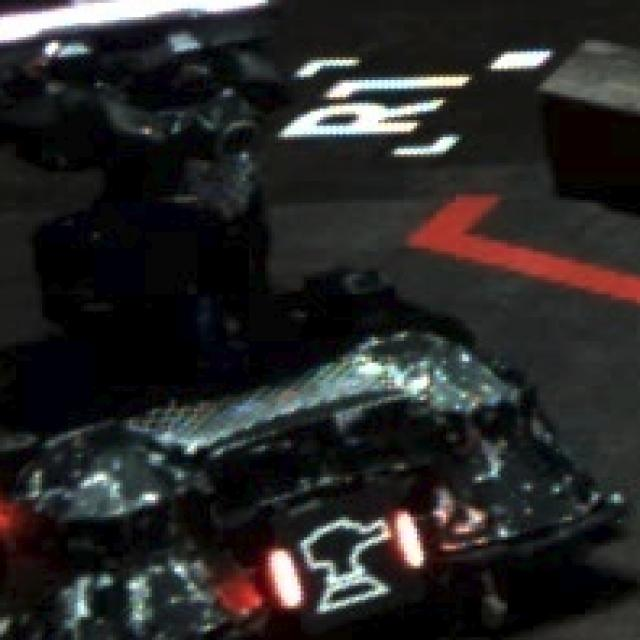Rs: (262, 506, 430, 608)
